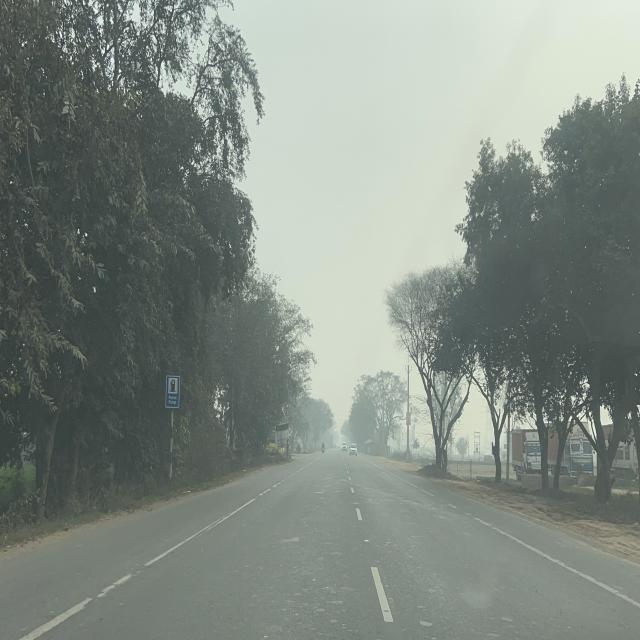INFORMATION: (165, 376, 180, 408)
